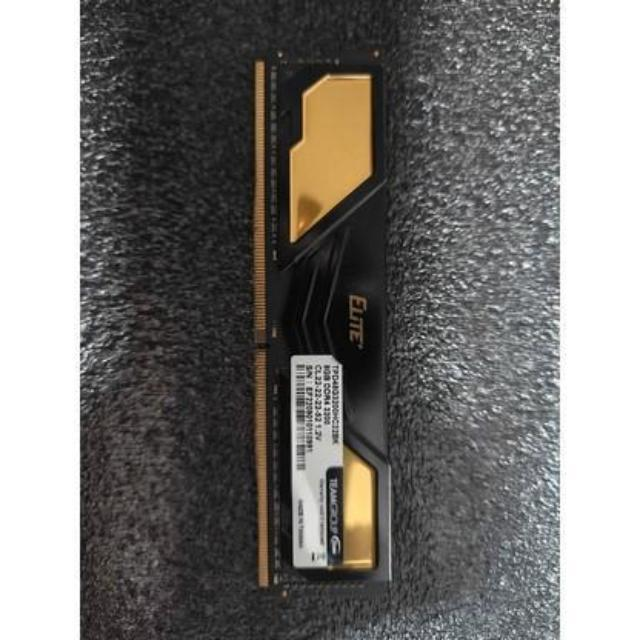RAM: (253, 56, 402, 596)
